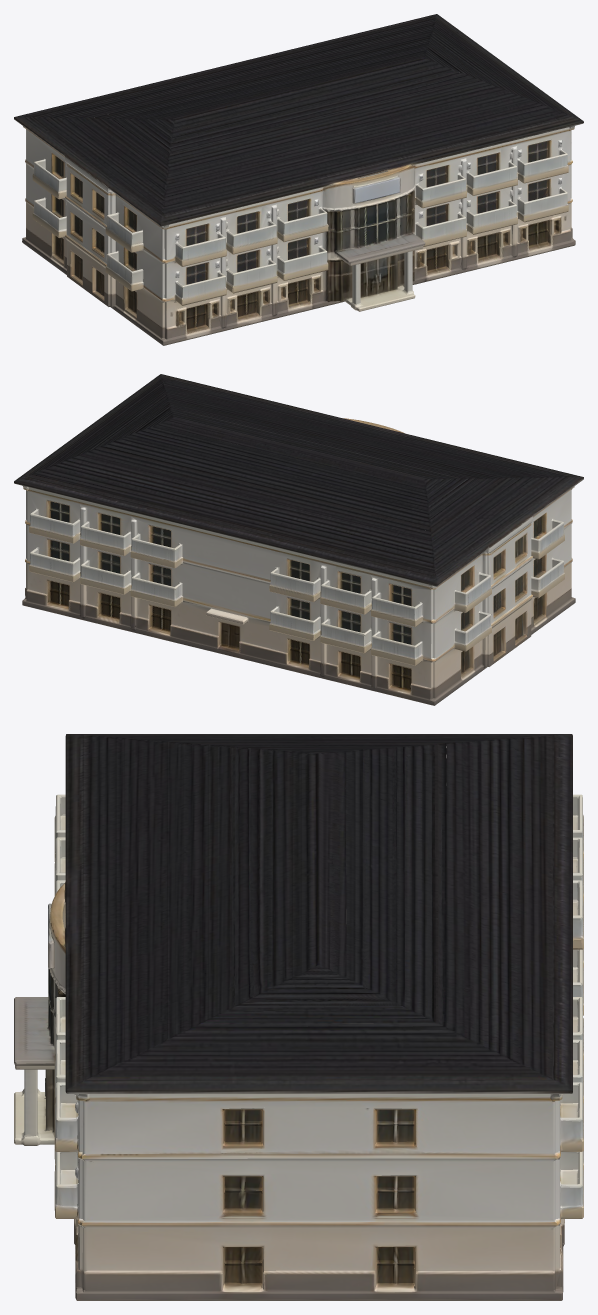
Rendered from hotel.glb.
3 views of the same model, one above another, from view 1: azimuth 30°, elevation 25°; view 2: azimuth 150°, elevation 25°; view 3: azimuth 270°, elevation 25° (orthographic). The views are drawn at different scales.
Visible parts, largest first — view 1: building; view 2: building; view 3: building.
Boxes of the visible parts, box(x1,y1,x2,y2) form: building: box(14, 14, 583, 345); building: box(14, 374, 583, 705); building: box(14, 734, 583, 1300).
Bounding box in the file's own units: 1.91 × 0.6645 × 1.27.
1 material, 1 textured.
